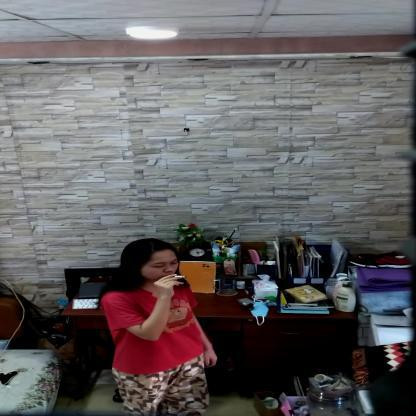cigarette: (174, 274, 186, 278)
person: (96, 238, 224, 415)
